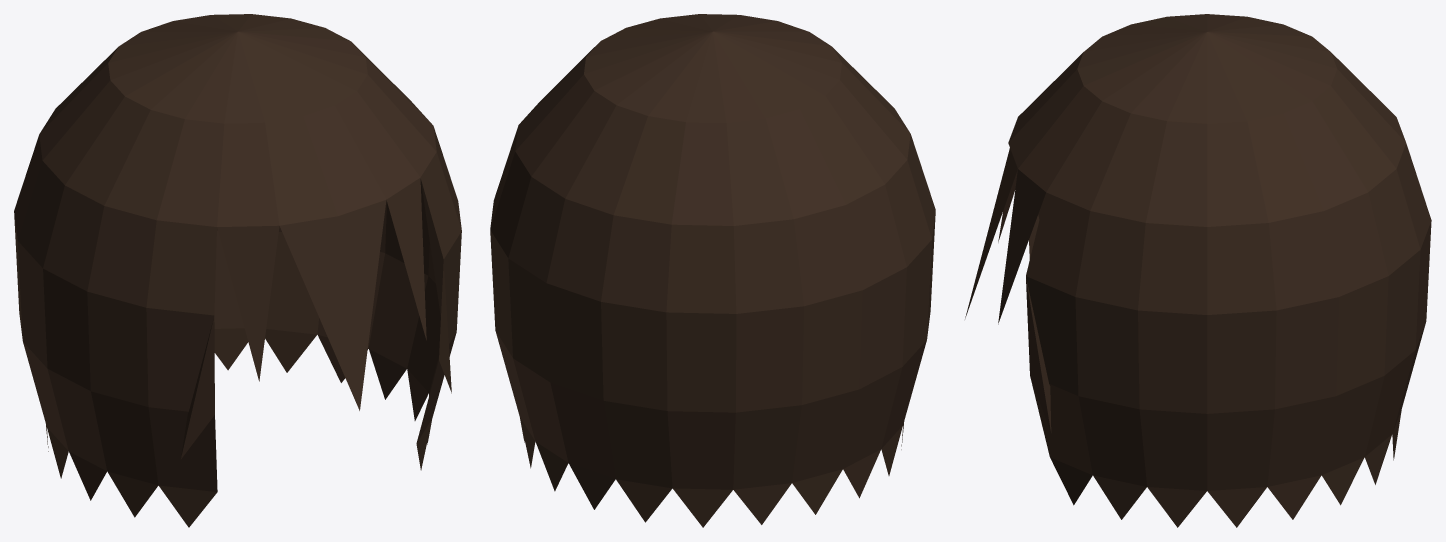
File: hair_short.glb
3 renders of one model, left to right at view 1: azimuth 30°, elevation 25°; view 2: azimuth 150°, elevation 25°; view 3: azimuth 270°, elevation 25°, orthographic.
Visible parts, largest first — view 1: hair; view 2: hair; view 3: hair.
Part boxes in pixels (x1,y1,x2,y2): hair: (14, 14, 461, 527); hair: (490, 14, 935, 527); hair: (965, 14, 1431, 527).
Size of the model in its own units: 0.604 by 0.62 by 0.629.
